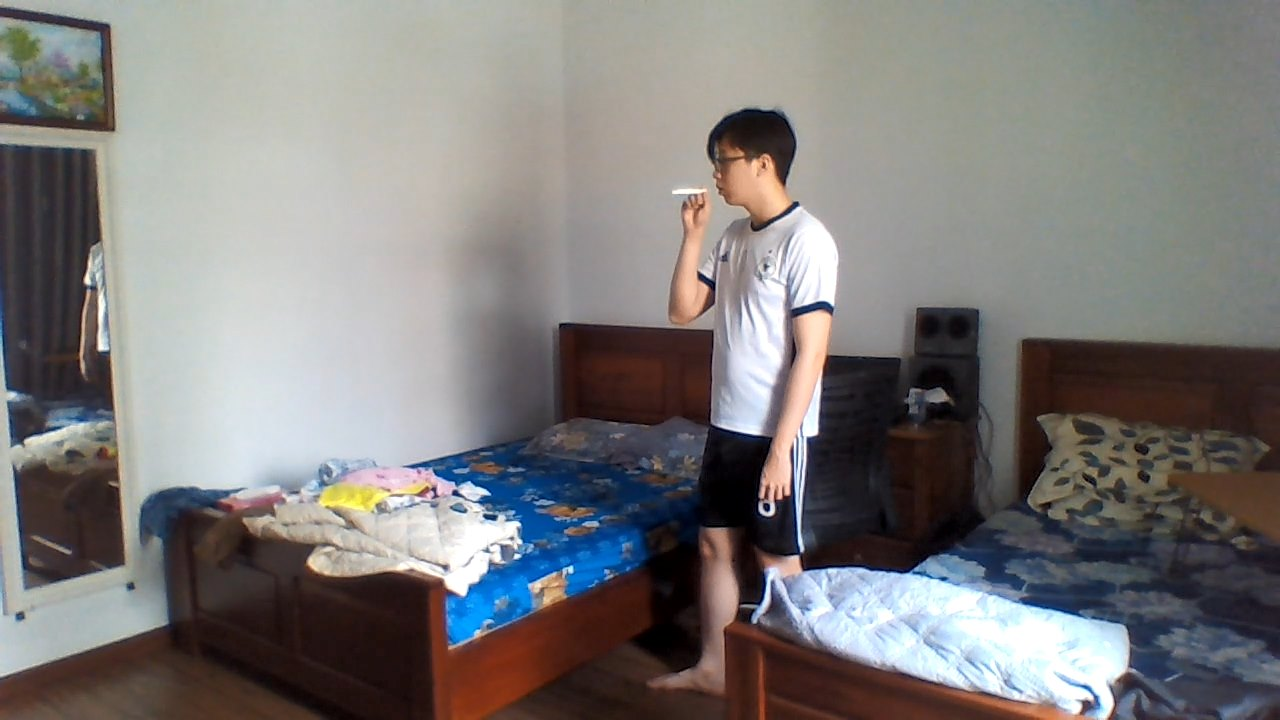cigarette: (667, 184, 712, 197)
person: (665, 91, 850, 556)
